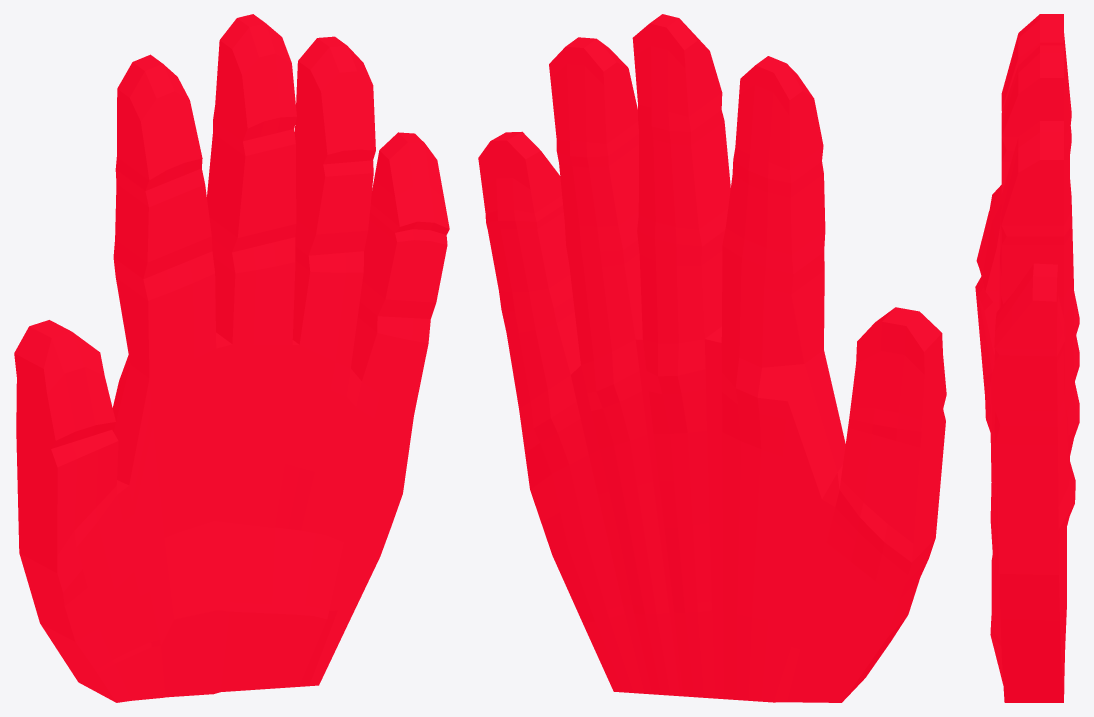
Rendered from hands.glb.
The picture shows the model from 3 angles, left to right: view 1: azimuth 30°, elevation 25°; view 2: azimuth 150°, elevation 25°; view 3: azimuth 270°, elevation 25°; orthographic projection. The views are drawn at different scales.
Visible parts, largest first — view 1: Hand; view 2: Hand; view 3: Hand.
Boxes of the visible parts, x1=… form: Hand: x1=14, y1=14, x2=449, y2=702; Hand: x1=478, y1=14, x2=946, y2=702; Hand: x1=975, y1=14, x2=1079, y2=702.
Bounding box in the file's own units: 0.7399 × 1.1 × 0.1638.
